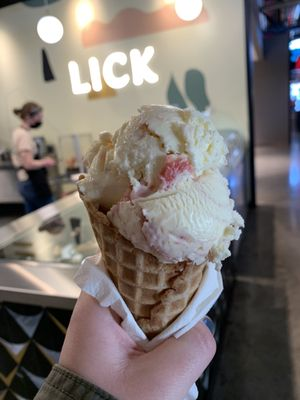pizza: (55, 99, 245, 399), (11, 101, 58, 214), (83, 130, 114, 173)
